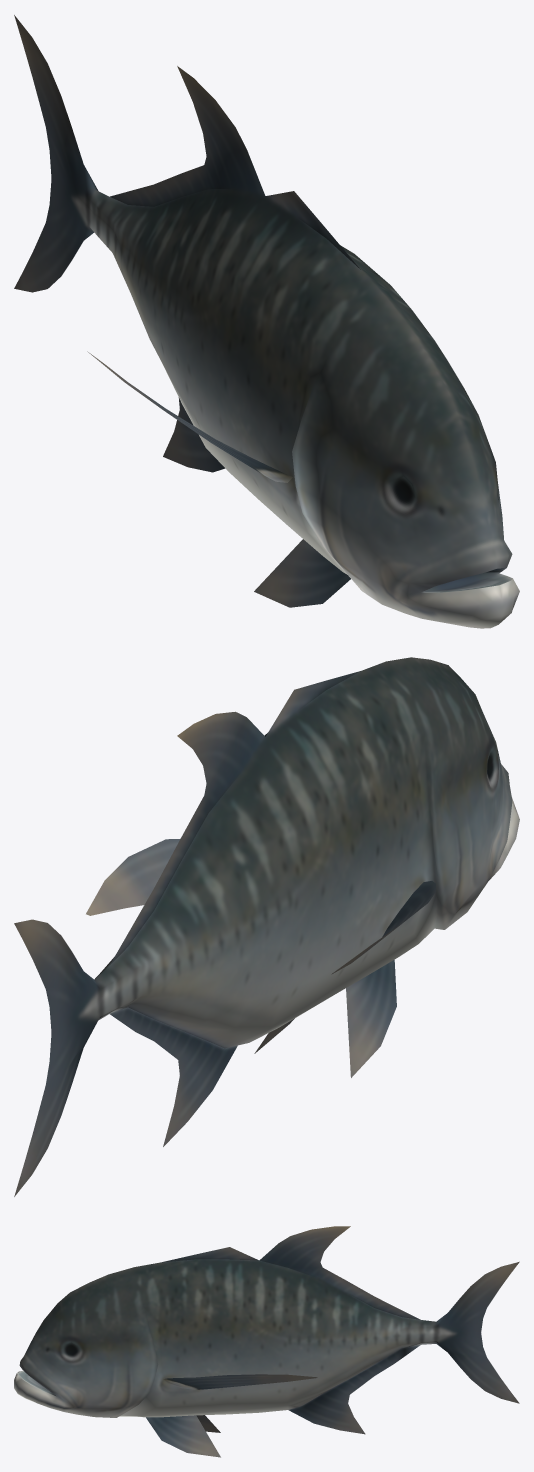
The model's file is giant-trevally.glb.
3 renders of one model, top to bottom at view 1: azimuth 30°, elevation 25°; view 2: azimuth 150°, elevation 25°; view 3: azimuth 270°, elevation 25°, orthographic. The views are drawn at different scales.
Visible parts, largest first — view 1: FishRouninaji__mRouninaji; view 2: FishRouninaji__mRouninaji; view 3: FishRouninaji__mRouninaji.
Boxes of the visible parts, left/top/right/bottom form: FishRouninaji__mRouninaji: left=14, top=15, right=519, bottom=628; FishRouninaji__mRouninaji: left=14, top=657, right=519, bottom=1196; FishRouninaji__mRouninaji: left=14, top=1226, right=519, bottom=1457.
Size of the model in its own units: 4.54 by 6.69 by 14.02.
Materials: 1 (1 with a texture image).
